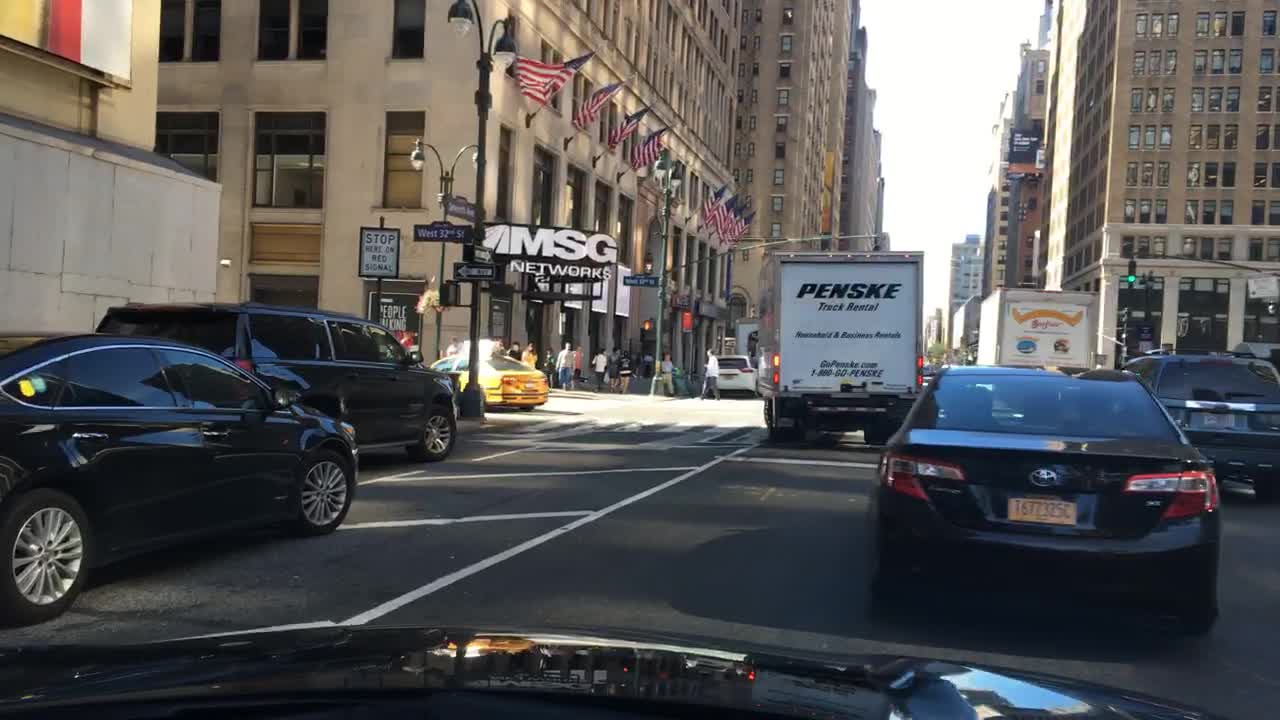car: (0, 330, 359, 624), (875, 365, 1224, 639), (92, 303, 458, 462), (1117, 353, 1276, 507), (429, 348, 545, 412), (701, 353, 758, 398)
person: (703, 348, 723, 398), (590, 346, 609, 388), (606, 343, 621, 388), (661, 351, 676, 395), (570, 343, 585, 385), (617, 348, 631, 391), (543, 344, 555, 388), (522, 339, 537, 368), (443, 334, 459, 356), (508, 339, 523, 361), (641, 351, 654, 375), (495, 334, 505, 350)
traffic light: (1128, 259, 1137, 282), (642, 318, 653, 331)
traffic sign: (357, 224, 401, 279), (451, 261, 495, 279), (1248, 274, 1276, 297), (621, 272, 659, 287)
truck: (757, 249, 924, 444), (977, 286, 1098, 375), (735, 314, 760, 366)
